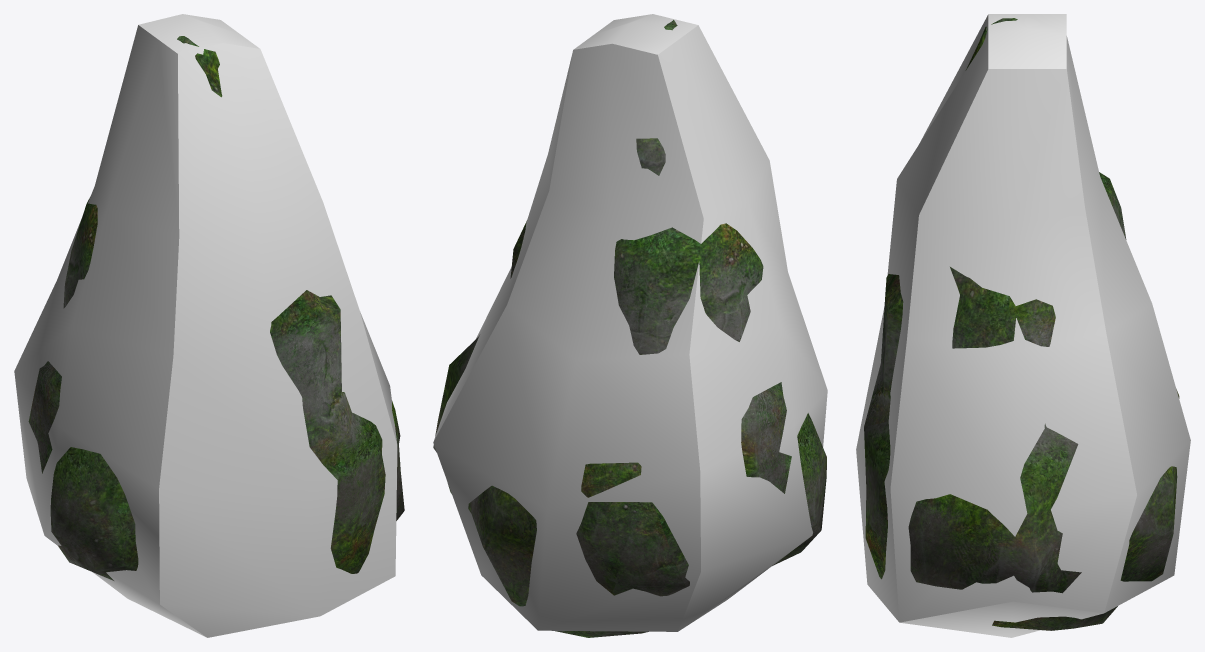
The model's file is Scene_Rock_DaShanShi_1.FBX.
The picture shows the model from 3 angles, left to right: view 1: azimuth 30°, elevation 25°; view 2: azimuth 150°, elevation 25°; view 3: azimuth 270°, elevation 25°; orthographic projection. The views are drawn at different scales.
Parts seen in each view (by area): view 1: Scene_Rock_DaShanShi_1_Xzm, Scene_Rock_DaShanShi_1; view 2: Scene_Rock_DaShanShi_1_Xzm, Scene_Rock_DaShanShi_1; view 3: Scene_Rock_DaShanShi_1_Xzm, Scene_Rock_DaShanShi_1.
Boxes of the visible parts, x1,y1,x2,y2 form: Scene_Rock_DaShanShi_1_Xzm: (14,14,397,637); Scene_Rock_DaShanShi_1: (28,36,404,580); Scene_Rock_DaShanShi_1_Xzm: (433,14,827,631); Scene_Rock_DaShanShi_1: (433,20,826,637); Scene_Rock_DaShanShi_1_Xzm: (856,14,1190,637); Scene_Rock_DaShanShi_1: (864,18,1179,630).
Size of the model in its own units: 805 by 1296 by 663.
